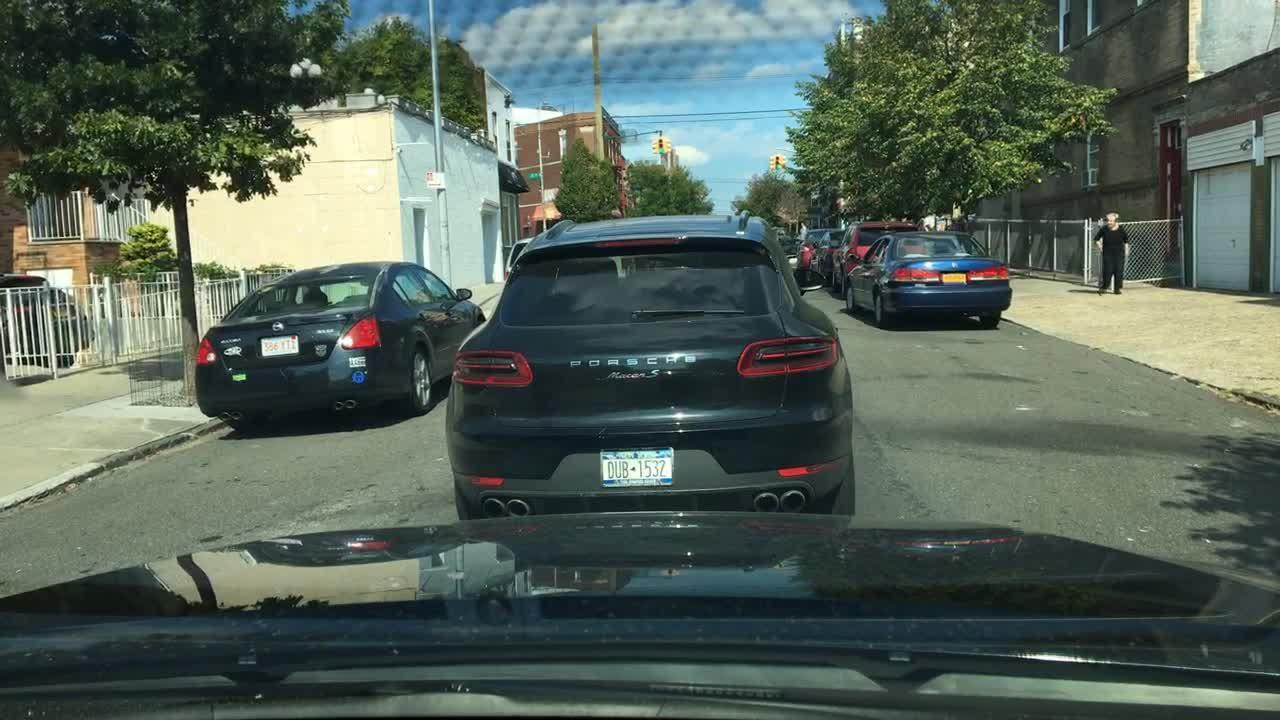Nissan: (264, 317, 289, 337)
porsche: (552, 348, 705, 369)
